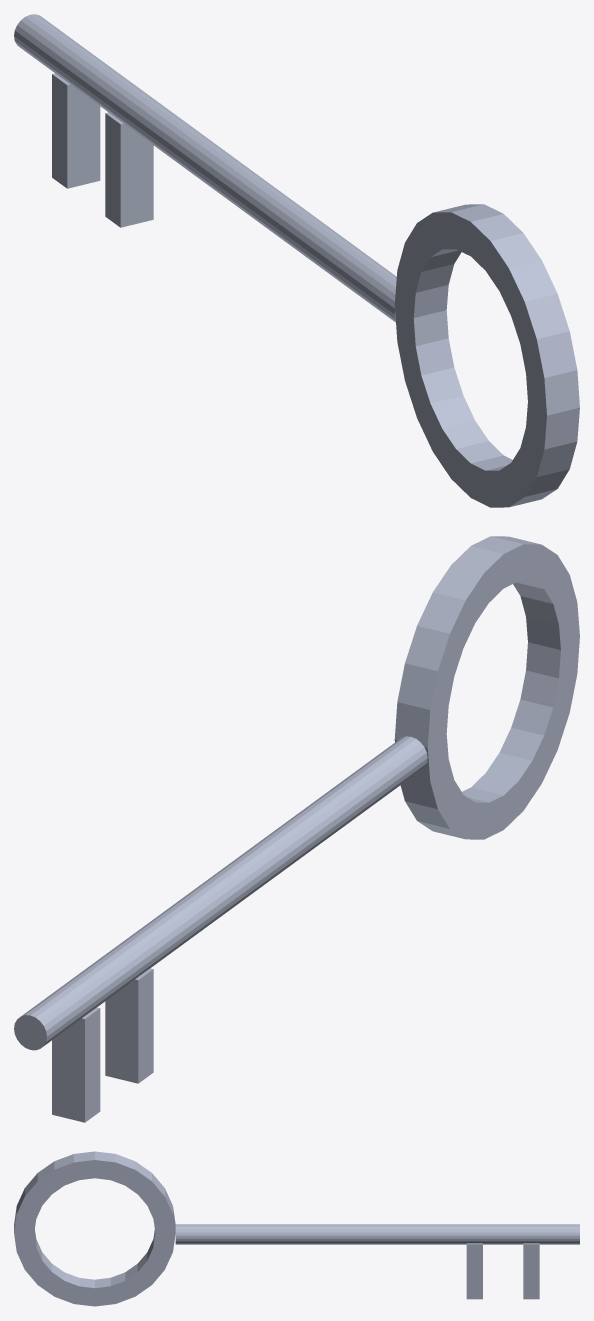
File: silver-key.glb
3 renders of one model, top to bottom at view 1: azimuth 30°, elevation 25°; view 2: azimuth 150°, elevation 25°; view 3: azimuth 270°, elevation 25°, orthographic. The views are drawn at different scales.
Parts seen in each view (by area): view 1: Mesh_Mesh_head_geo.001_lambert2SG.001; view 2: Mesh_Mesh_head_geo.001_lambert2SG.001; view 3: Mesh_Mesh_head_geo.001_lambert2SG.001.
Part boxes in pixels (x1,y1,x2,y2): Mesh_Mesh_head_geo.001_lambert2SG.001: (14, 14, 579, 507); Mesh_Mesh_head_geo.001_lambert2SG.001: (14, 536, 579, 1122); Mesh_Mesh_head_geo.001_lambert2SG.001: (14, 1151, 579, 1306).
Size of the model in its own units: 0.25 by 2 by 7.
